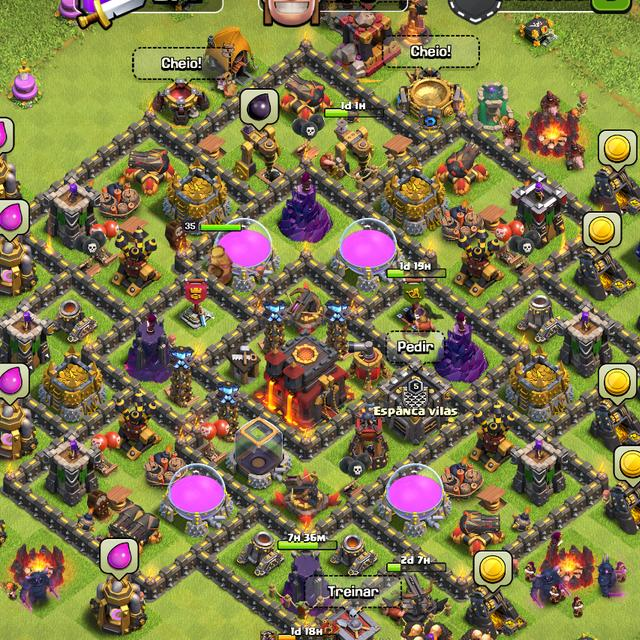Elixir: (99, 537, 140, 582), (0, 362, 30, 408), (0, 198, 30, 243), (0, 116, 15, 158)
ElixirNegro: (240, 87, 280, 132)
coin: (597, 128, 639, 174), (581, 210, 623, 255), (474, 549, 514, 593), (598, 363, 636, 406), (612, 444, 640, 489)
